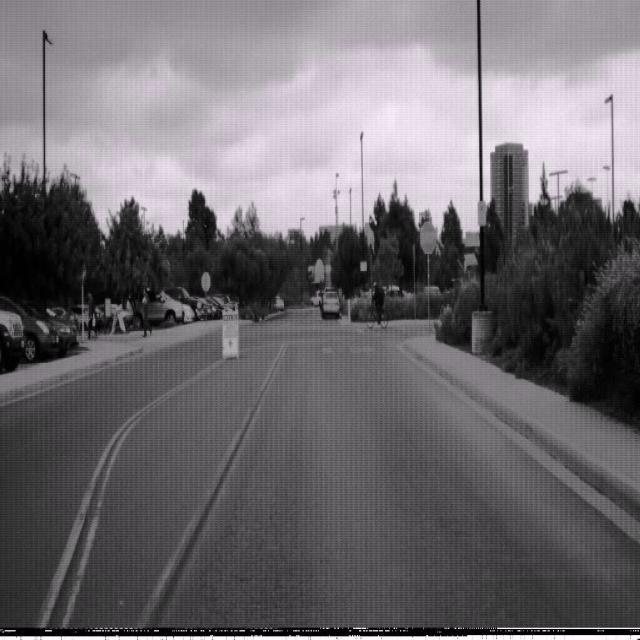stop: (419, 219, 437, 255)
